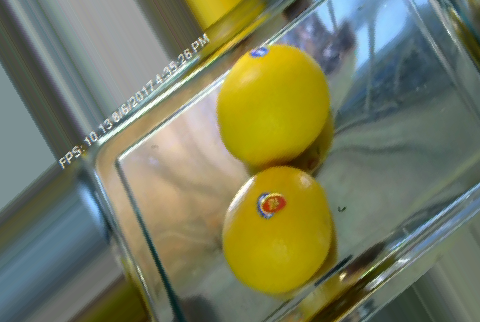Orange: (216, 42, 334, 169), (221, 166, 335, 294)
